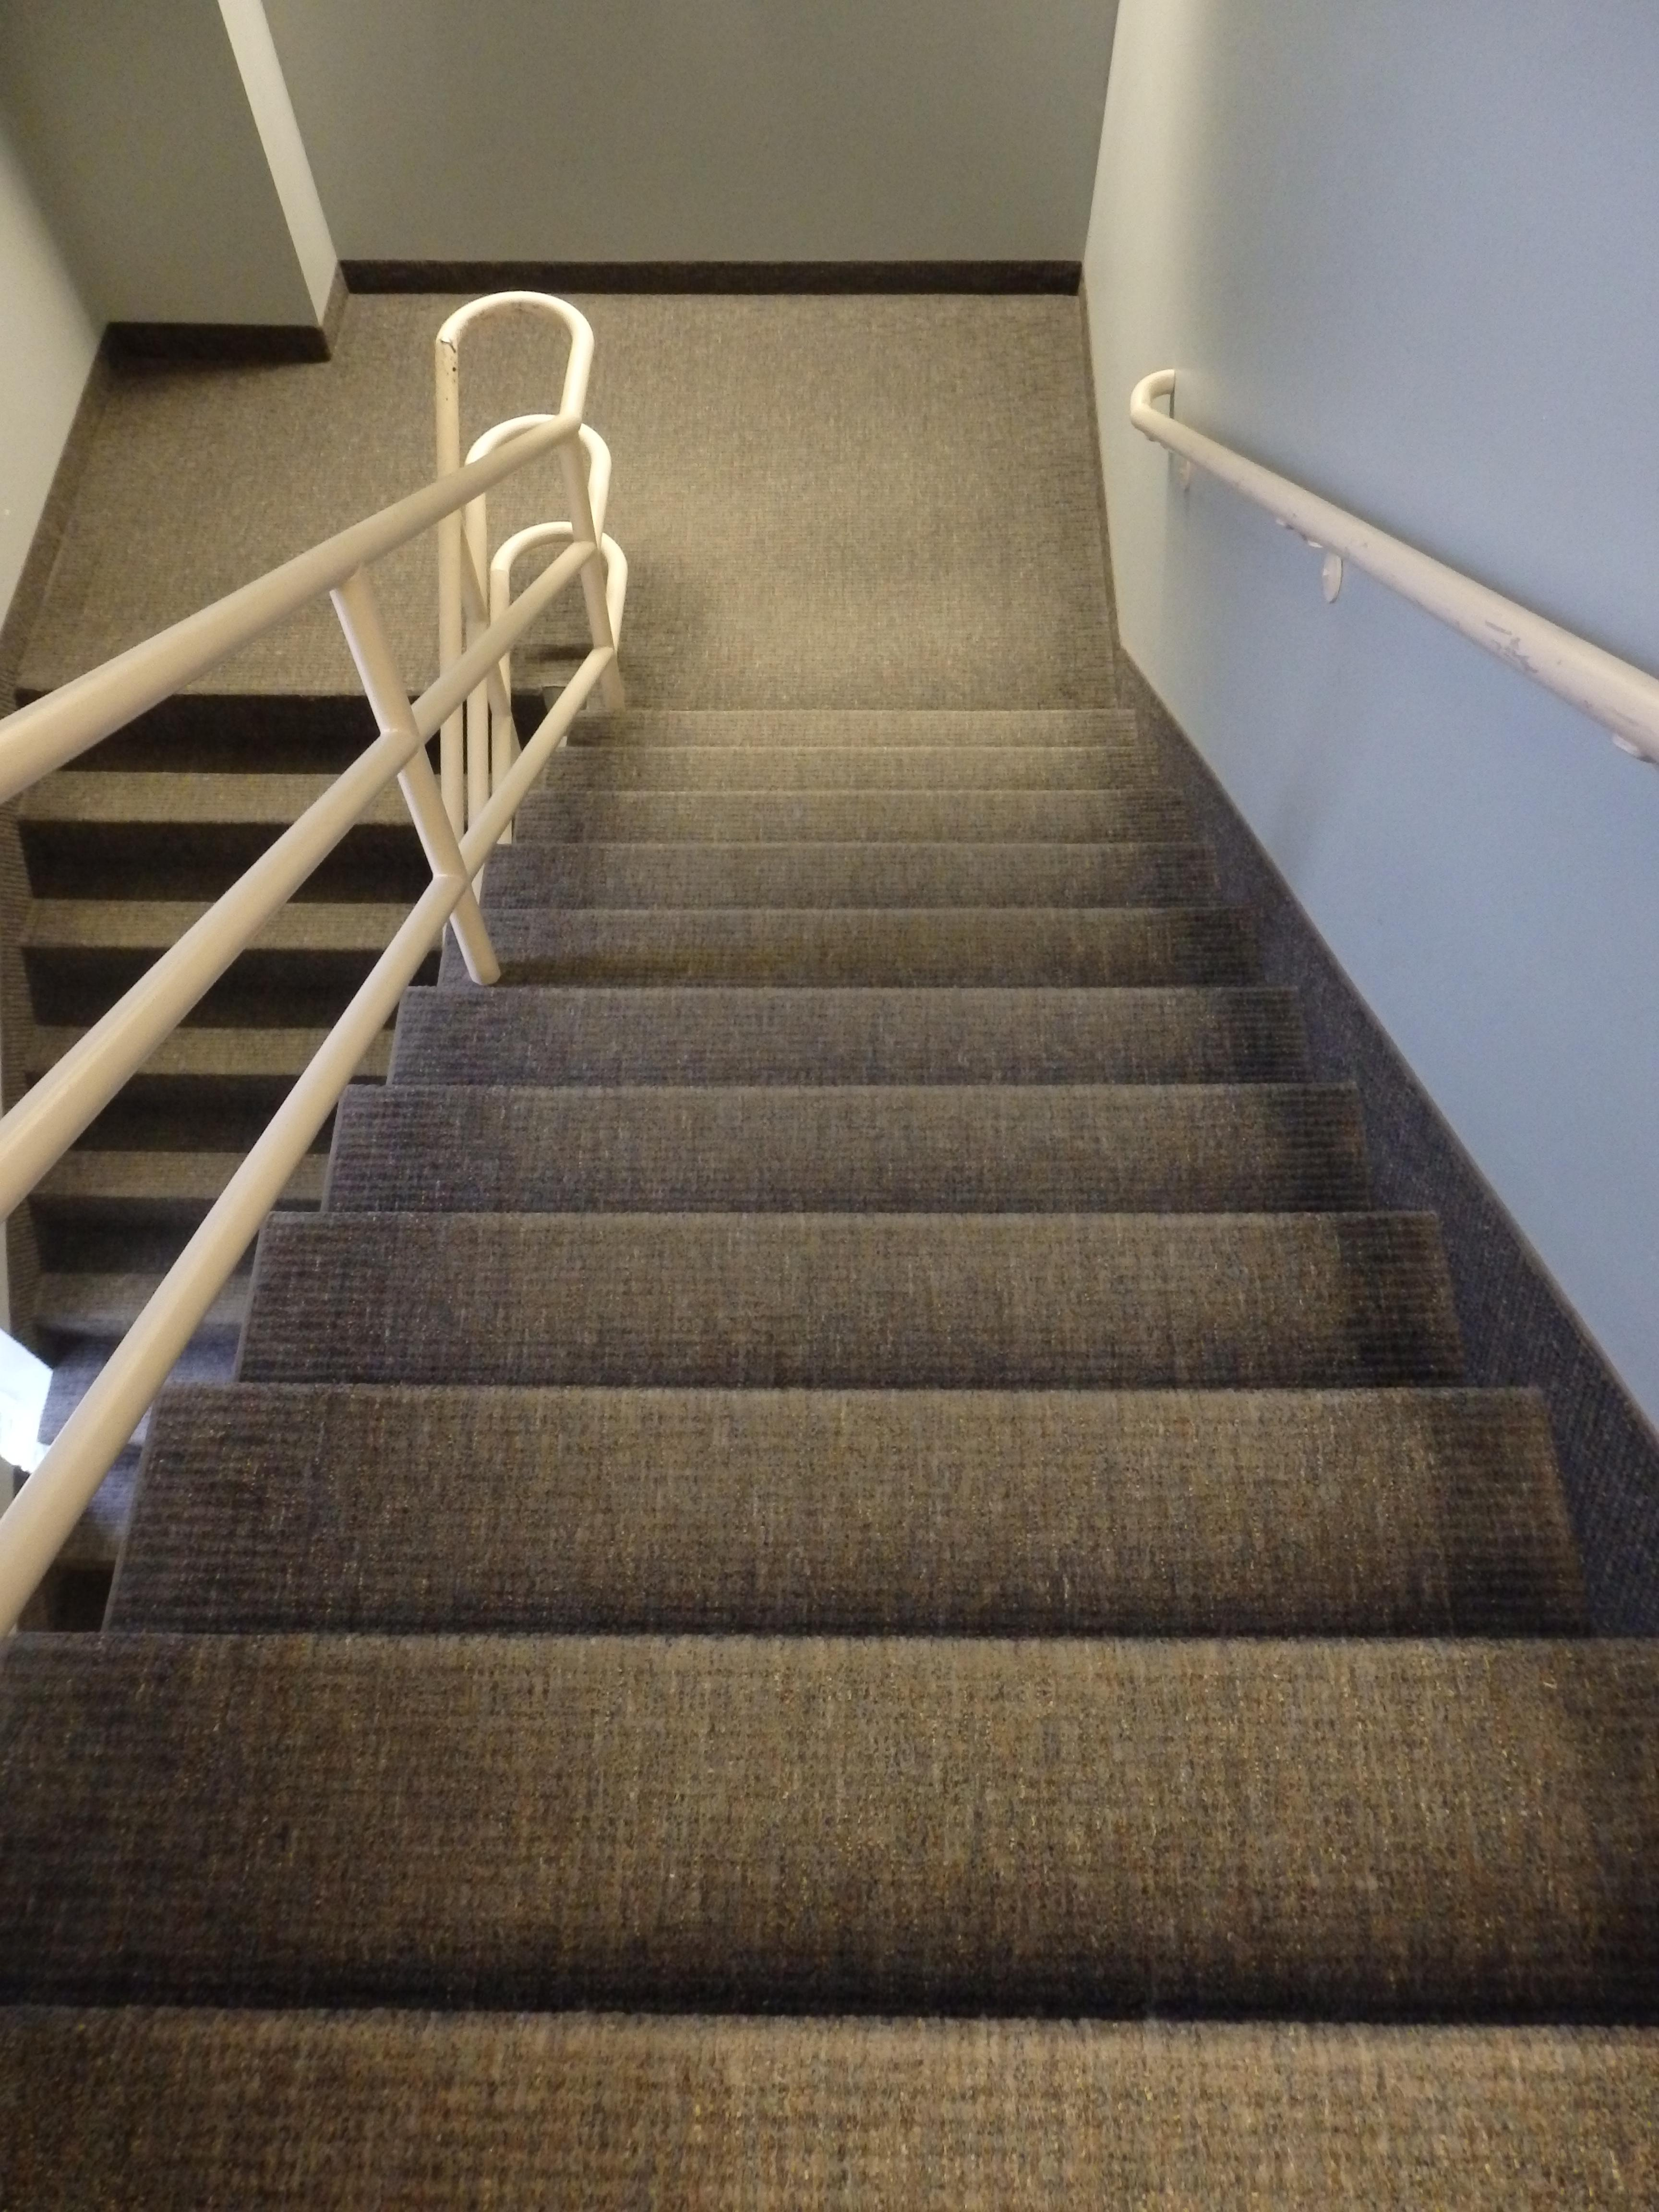stairs_down: (338, 683, 1464, 2118)
